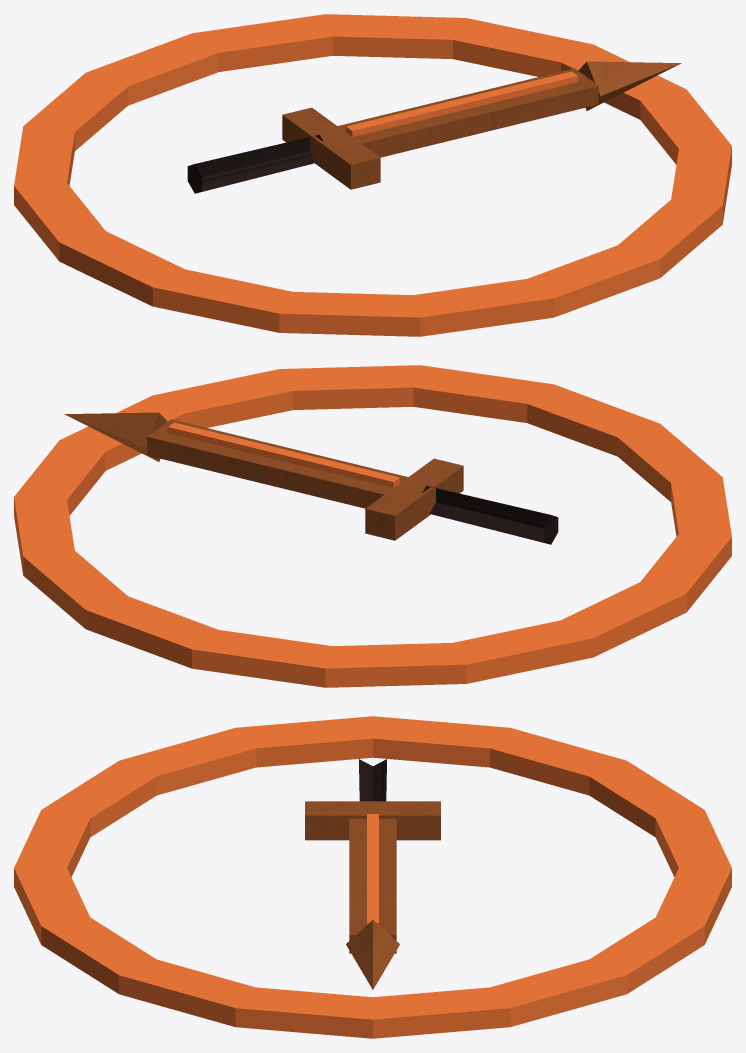
The model's file is loot_dagger_g4.glb.
The picture shows the model from 3 angles, top to bottom: view 1: azimuth 30°, elevation 25°; view 2: azimuth 150°, elevation 25°; view 3: azimuth 270°, elevation 25°; orthographic projection.
Parts seen in each view (by area): view 1: loot_dagger_g4; view 2: loot_dagger_g4; view 3: loot_dagger_g4.
Part boxes in pixels (left/top/right/bottom): loot_dagger_g4: left=14, top=14, right=731, bottom=336; loot_dagger_g4: left=14, top=365, right=731, bottom=687; loot_dagger_g4: left=14, top=716, right=731, bottom=1038.
Size of the model in its own units: 1.06 by 0.115 by 1.06.
Materials: 3 (3 with a texture image).
